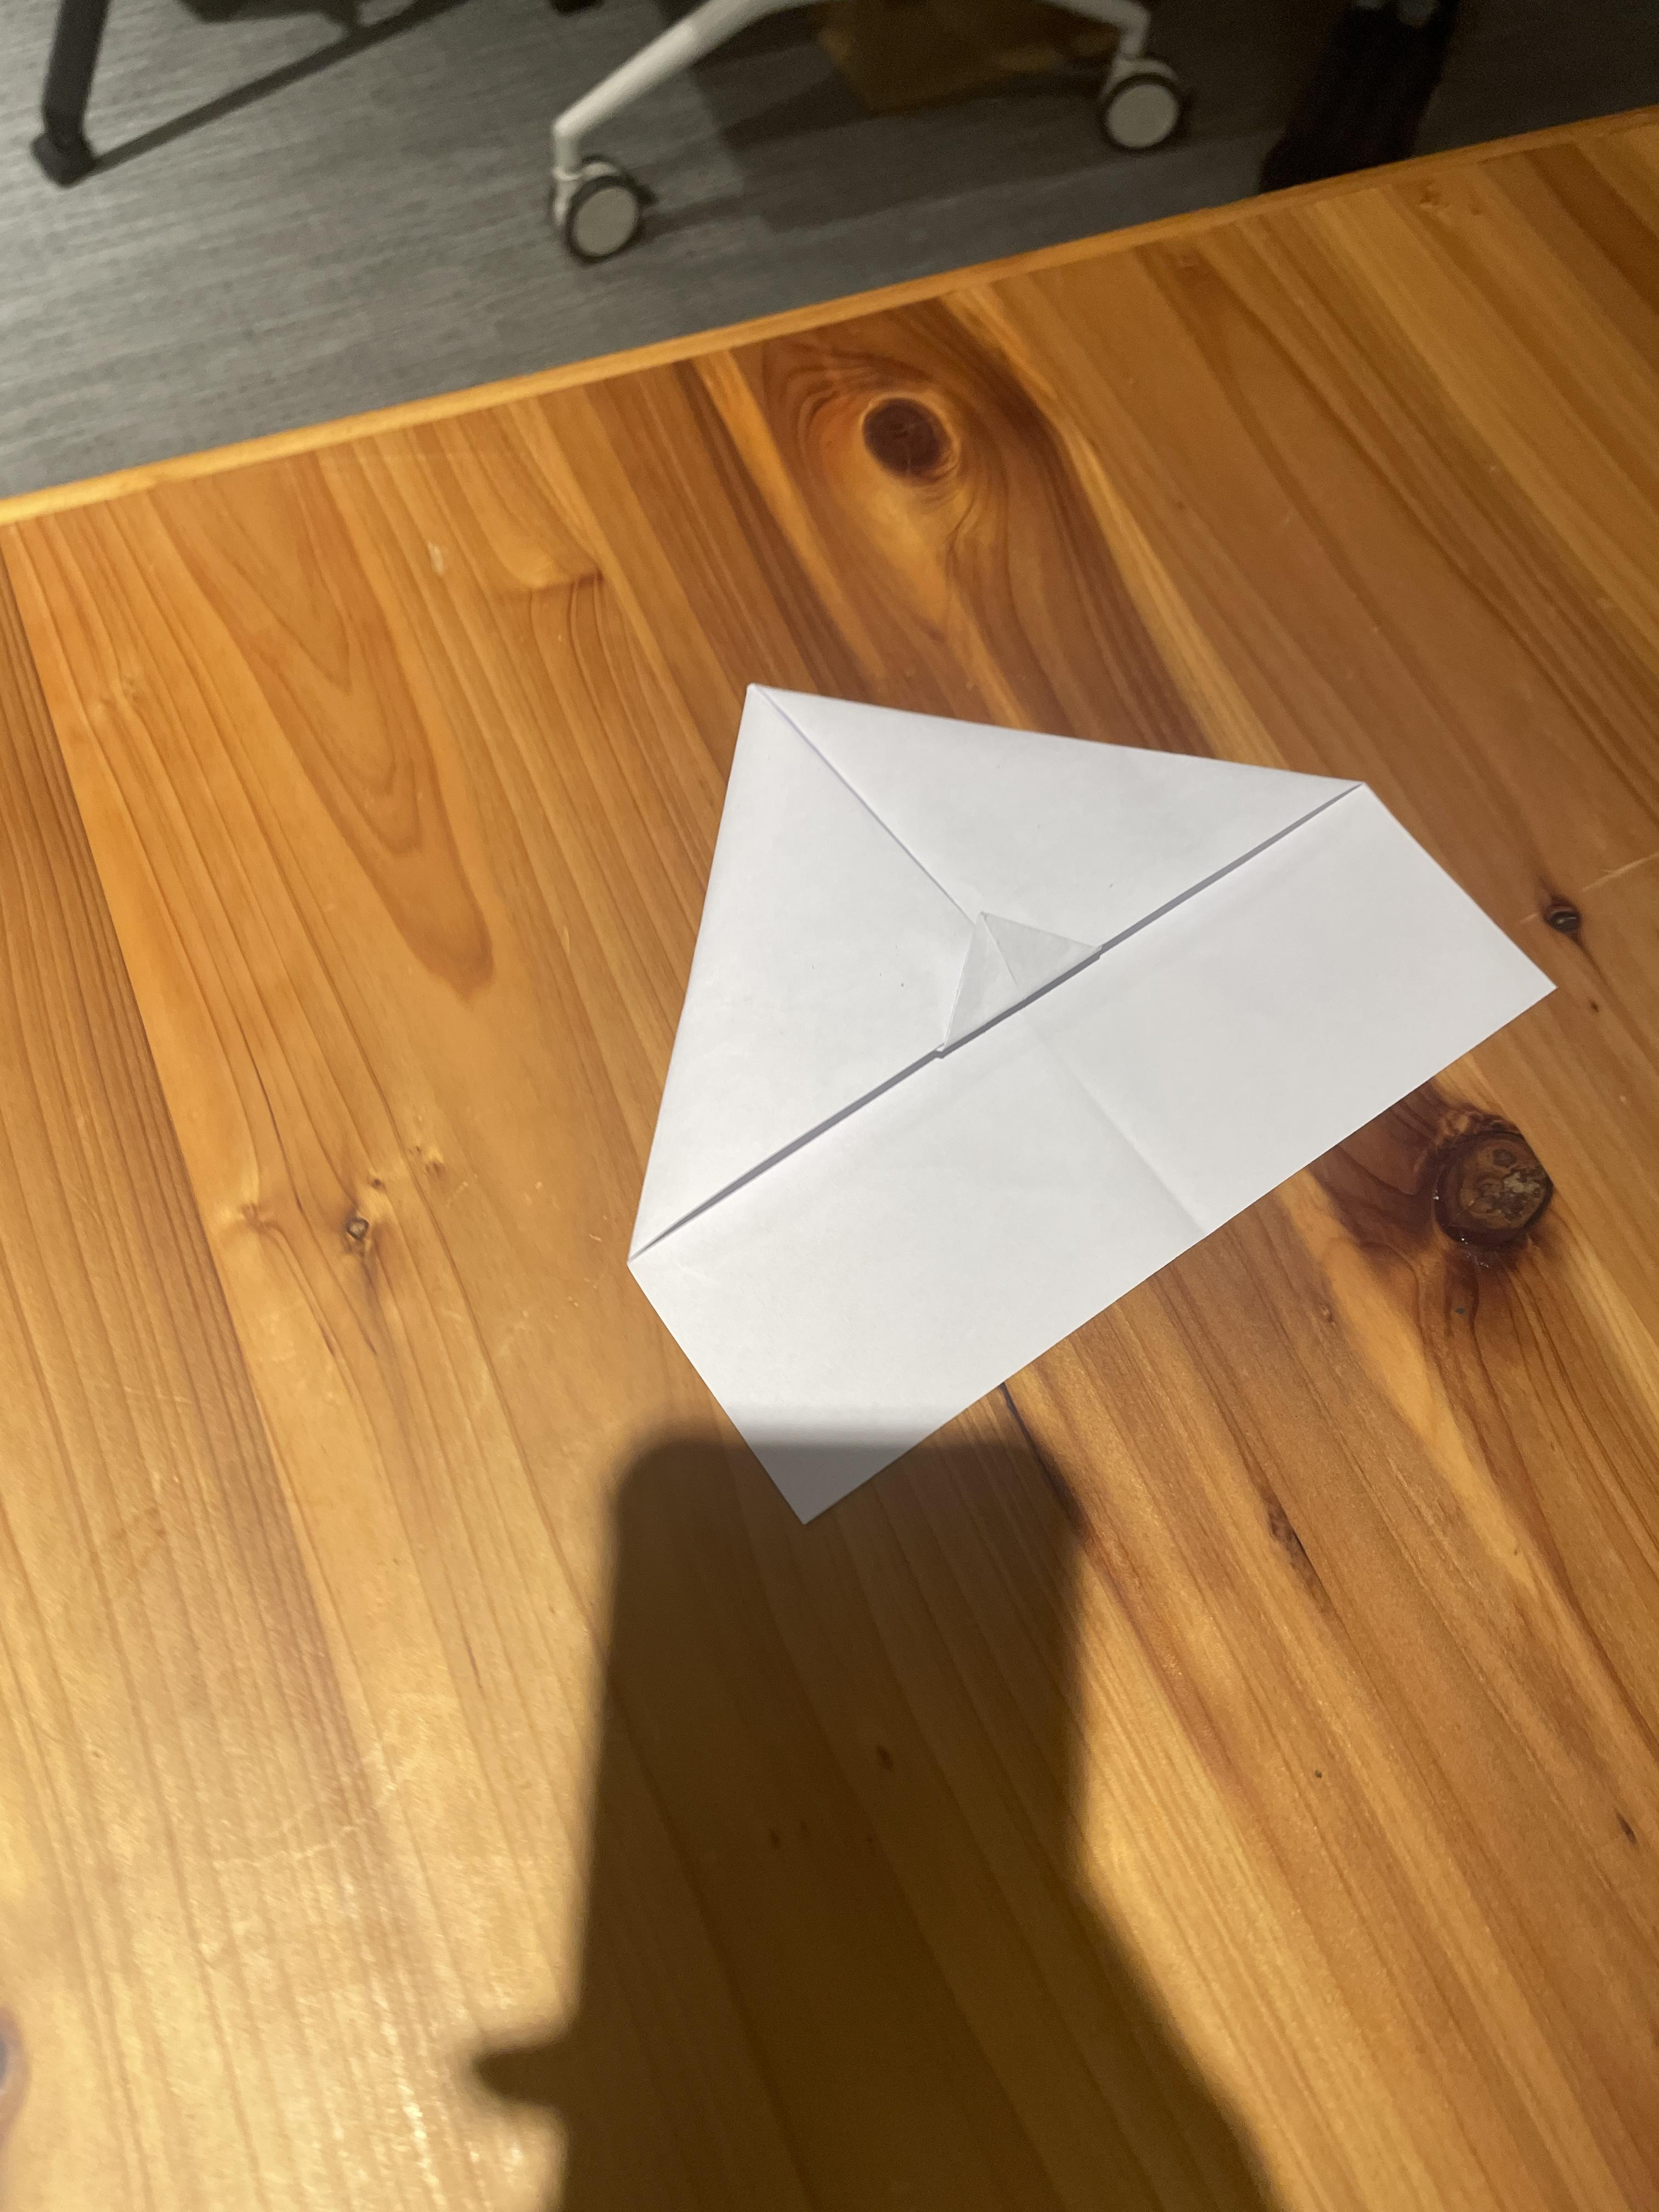shape_2: (493, 543, 1619, 1599)
